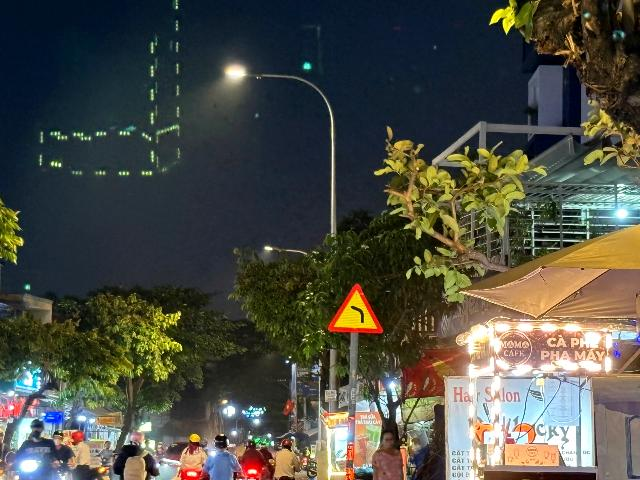cho-ngoat-nguy-hiem-ben-trai: (327, 281, 383, 335)
